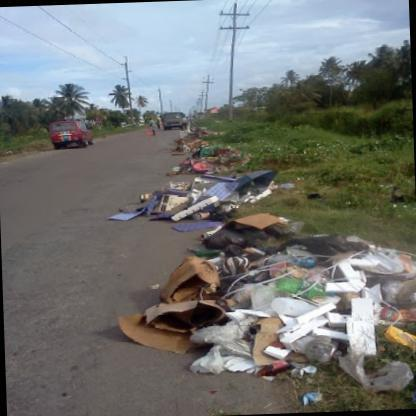Garbage: (179, 241, 415, 393), (166, 246, 246, 314), (343, 304, 415, 370), (260, 268, 328, 327), (260, 353, 332, 406), (339, 244, 399, 298), (254, 345, 314, 380), (273, 274, 326, 310), (172, 148, 209, 185), (301, 390, 332, 412), (168, 140, 190, 155), (219, 147, 238, 159), (406, 393, 415, 409)
